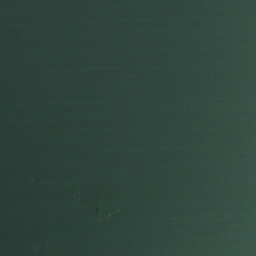con: (69, 185, 123, 226)
